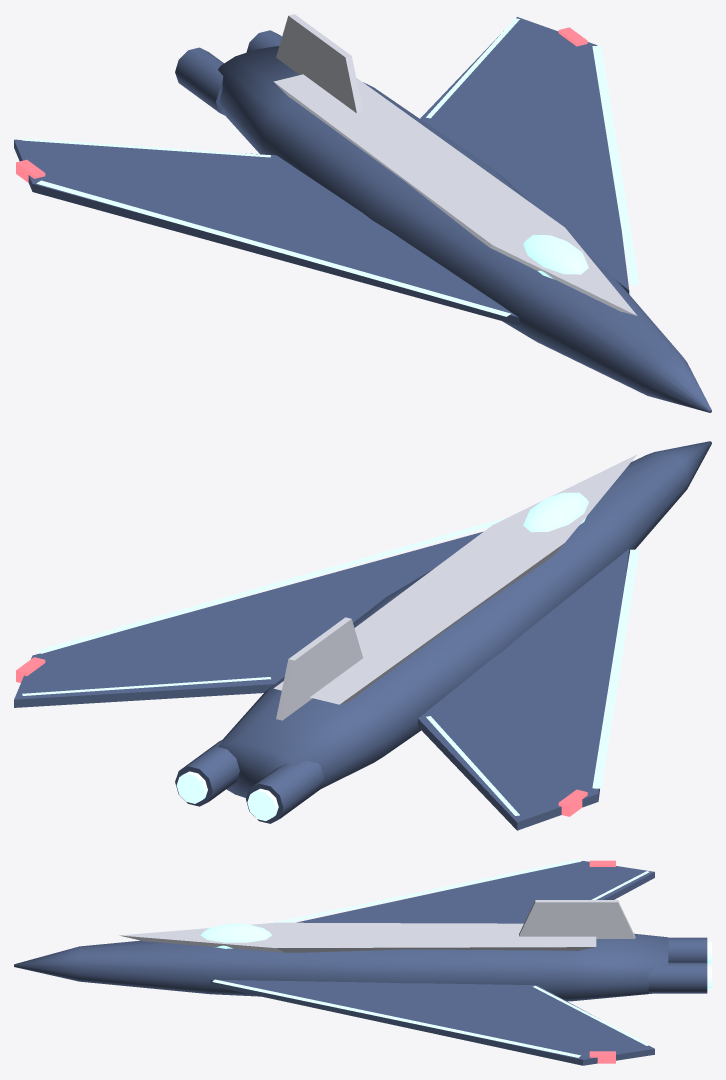
File: frigate.glb
The picture shows the model from 3 angles, top to bottom: view 1: azimuth 30°, elevation 25°; view 2: azimuth 150°, elevation 25°; view 3: azimuth 270°, elevation 25°; orthographic projection. The views are drawn at different scales.
Visible parts, largest first — view 1: frigate; view 2: frigate; view 3: frigate.
Part boxes in pixels (x1,y1,x2,y2): frigate: (14,14,711,412); frigate: (14,441,711,830); frigate: (14,859,711,1065).
Bounding box in the file's own units: 7.2 × 1.51 × 10.67.
